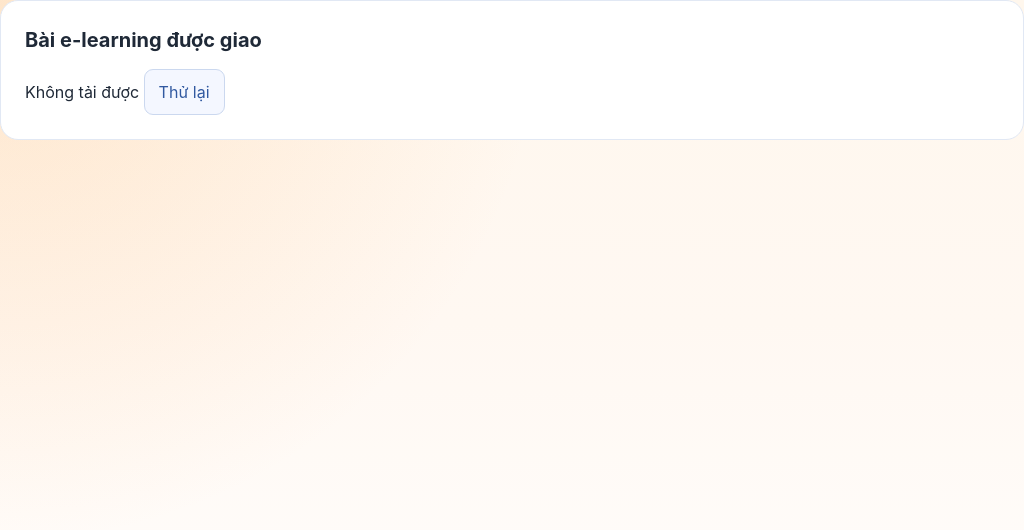
Test: lists only the API response with empty and retry states
Later steps or results of the test are not shown.
Expected: the message "Không tải được Thử lại" is shown, [25, 69, 224, 115]
Click the button "Thử lại" at (184, 92), box [144, 69, 224, 115]
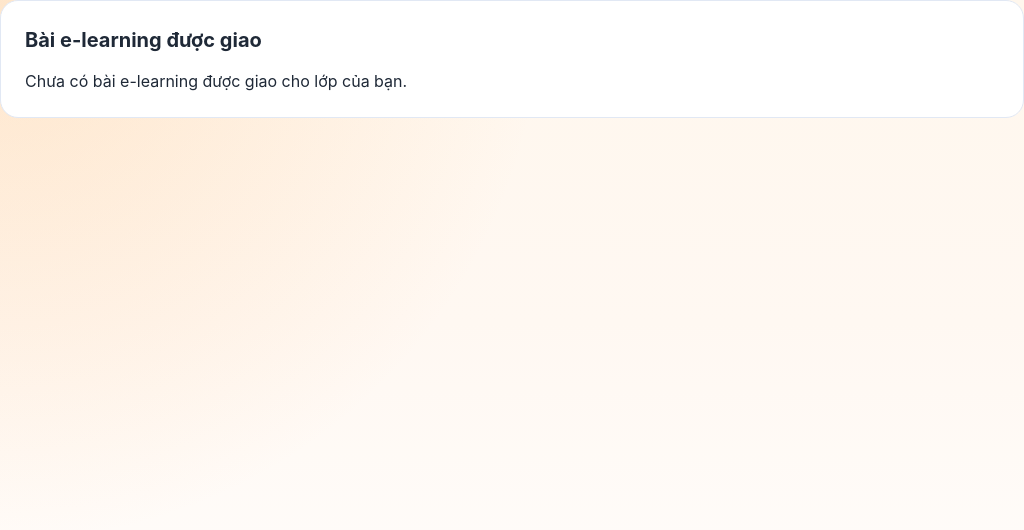
Expected: the text "Chưa có bài e-learning được giao cho lớp của bạn." is shown, [25, 71, 407, 91]
